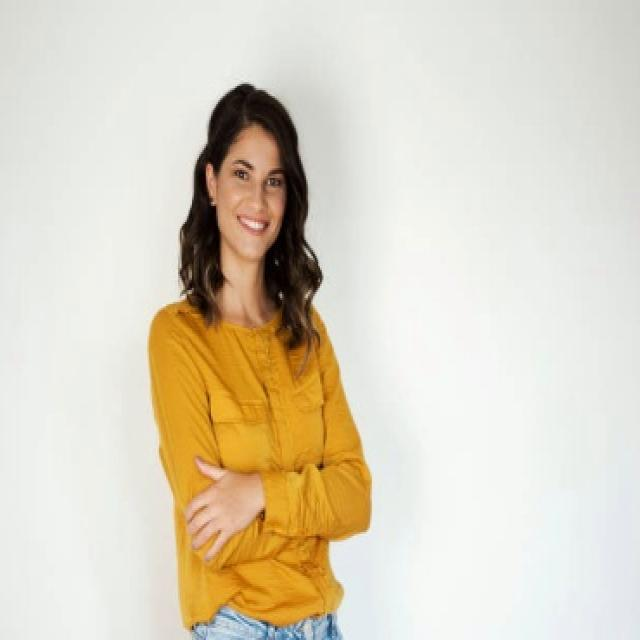adult: (158, 77, 374, 640)
